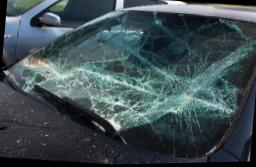Windshield: (0, 0, 256, 148)
